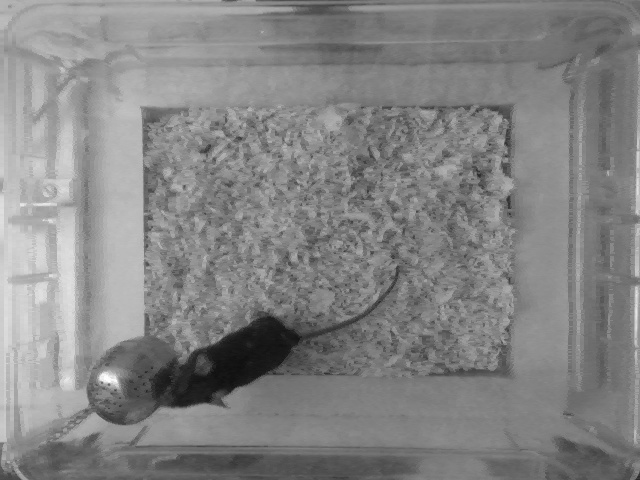mice: (158, 267, 400, 409)
